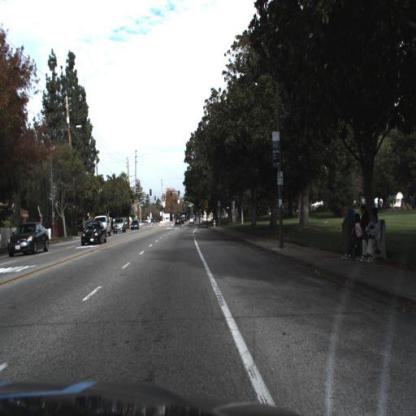car: (6, 219, 53, 262), (80, 220, 109, 249), (111, 213, 128, 237), (172, 215, 184, 231), (130, 219, 142, 233), (188, 213, 197, 229)
pedestrian: (342, 207, 370, 261), (361, 208, 382, 264), (345, 214, 364, 260)
